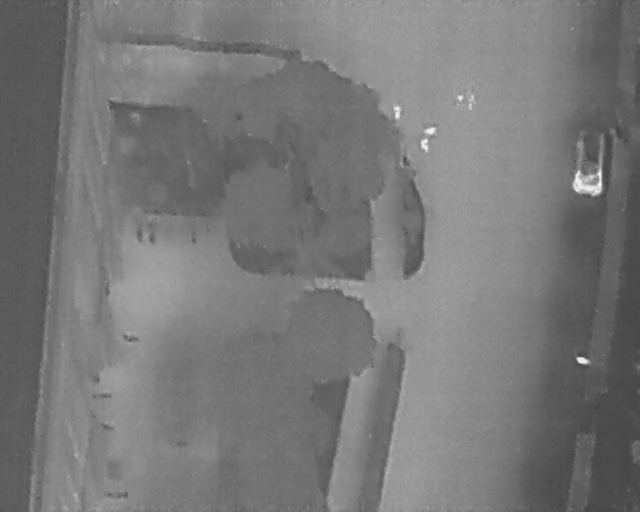Car: (571, 128, 606, 196)
Person: (420, 137, 430, 153), (394, 103, 402, 120), (456, 92, 464, 106), (468, 96, 473, 108)
